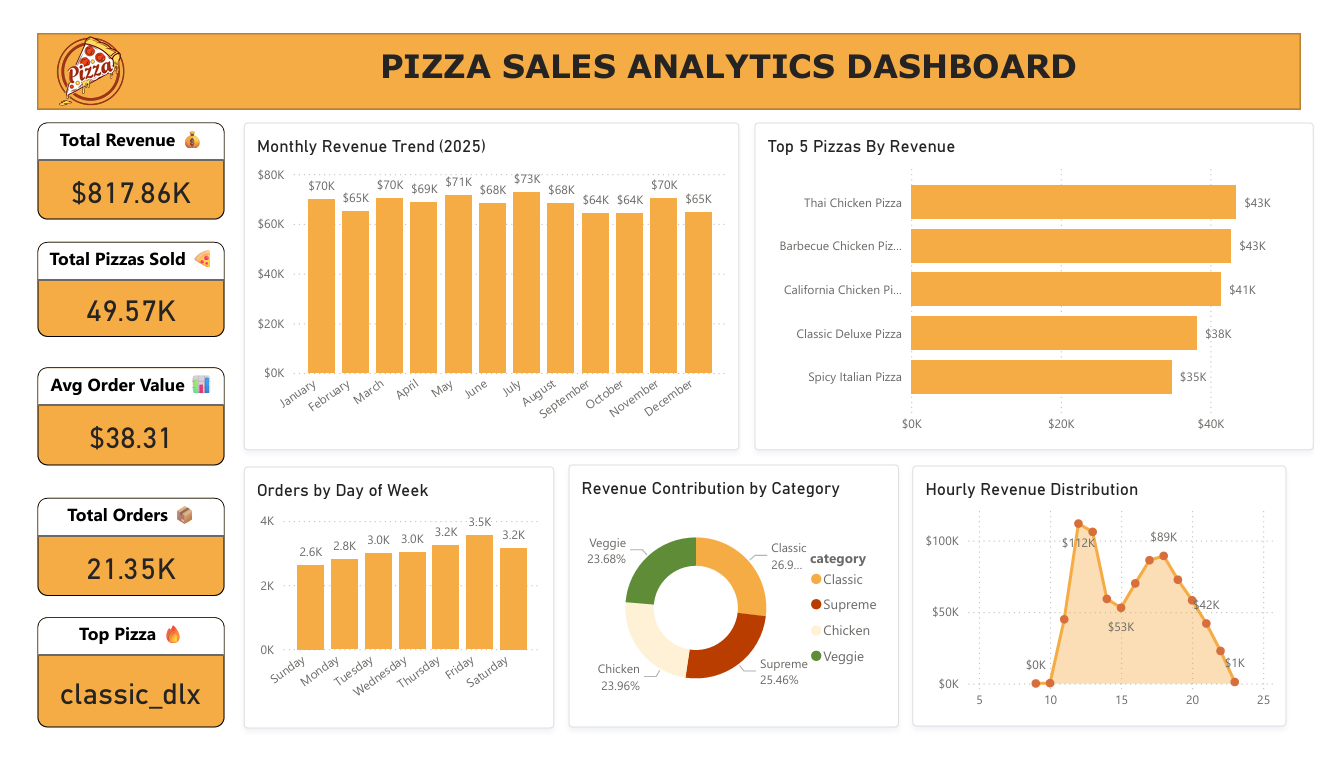

The dashboard page shown, as its layout file describes it:
{"tool":"powerbi","page":{"name":"Overview","canvas":[1280,720],"ordinal":0},"visuals":[{"type":"card","title":"Total Revenue 💰","fields":{"Values":["order_details.total_sales"]},"box":[16.9,101.2,185.4,95.5],"z":0},{"type":"card","title":"Total Orders 📦","fields":{"Values":["order_details.total_orders"]},"box":[16.9,472,185.4,97.4],"z":1000},{"type":"card","title":"Top Pizza 🔥","fields":{"Values":["order_details.Top Pizza Type"]},"box":[16.9,590.1,185.4,108.6],"z":2000},{"type":"card","title":"Total Pizzas Sold 🍕","fields":{"Values":["order_details.total_quantity_sold"]},"box":[16.9,219.2,185.4,93.7],"z":3000},{"type":"card","title":"Avg Order Value 📊","fields":{"Values":["order_details.avg order value"]},"box":[16.9,342.8,185.4,97.4],"z":4000},{"type":"columnChart","title":"Monthly Revenue Trend (2025)","fields":{"Category":["orders.Month Name"],"Y":["order_details.total_sales"]},"box":[220.6,101.1,490.8,323.5],"z":5000},{"type":"donutChart","title":"Revenue Contribution by Category","fields":{"Category":["pizza_types.category"],"Y":["order_details.total_sales"]},"box":[542.3,439.3,327.2,259.2],"z":6000},{"type":"columnChart","title":"Orders by Day of Week","fields":{"Category":["orders.Day Name"],"Y":["order_details.total_orders"]},"box":[220.6,441.2,307,259.2],"z":7000},{"type":"shape","box":[16.9,13.1,1249.4,74.9],"z":8000},{"type":"image","box":[0,13.1,138.6,74.9],"z":9000},{"type":"textbox","box":[137.9,20.2,1114,53.3],"z":10000},{"type":"clusteredBarChart","title":"Top 5 Pizzas By Revenue","fields":{"Category":["pizza_types.name"],"Y":["order_details.total_revenue"]},"box":[726.1,101.1,553.3,323.5],"z":11000},{"type":"areaChart","title":"Hourly Revenue Distribution","fields":{"Category":["orders.Hour"],"Y":["order_details.total_revenue"]},"box":[882,440,370,258],"z":12000}]}

Visuals, with their boxes in screenshot pixels (x1, y1, x2, y2), scaled from the page's 1280x720 canvas onto the 1332x766 screenshot:
"Total Revenue 💰" card: BBox(18, 108, 211, 209)
"Total Orders 📦" card: BBox(18, 502, 211, 606)
"Top Pizza 🔥" card: BBox(18, 628, 211, 743)
"Total Pizzas Sold 🍕" card: BBox(18, 233, 211, 333)
"Avg Order Value 📊" card: BBox(18, 365, 211, 468)
"Monthly Revenue Trend (2025)" columnChart: BBox(230, 108, 740, 452)
"Revenue Contribution by Category" donutChart: BBox(564, 467, 905, 743)
"Orders by Day of Week" columnChart: BBox(230, 469, 549, 745)
shape: BBox(18, 14, 1318, 94)
image: BBox(0, 14, 144, 94)
textbox: BBox(144, 21, 1303, 78)
"Top 5 Pizzas By Revenue" clusteredBarChart: BBox(756, 108, 1331, 452)
"Hourly Revenue Distribution" areaChart: BBox(918, 468, 1303, 743)
